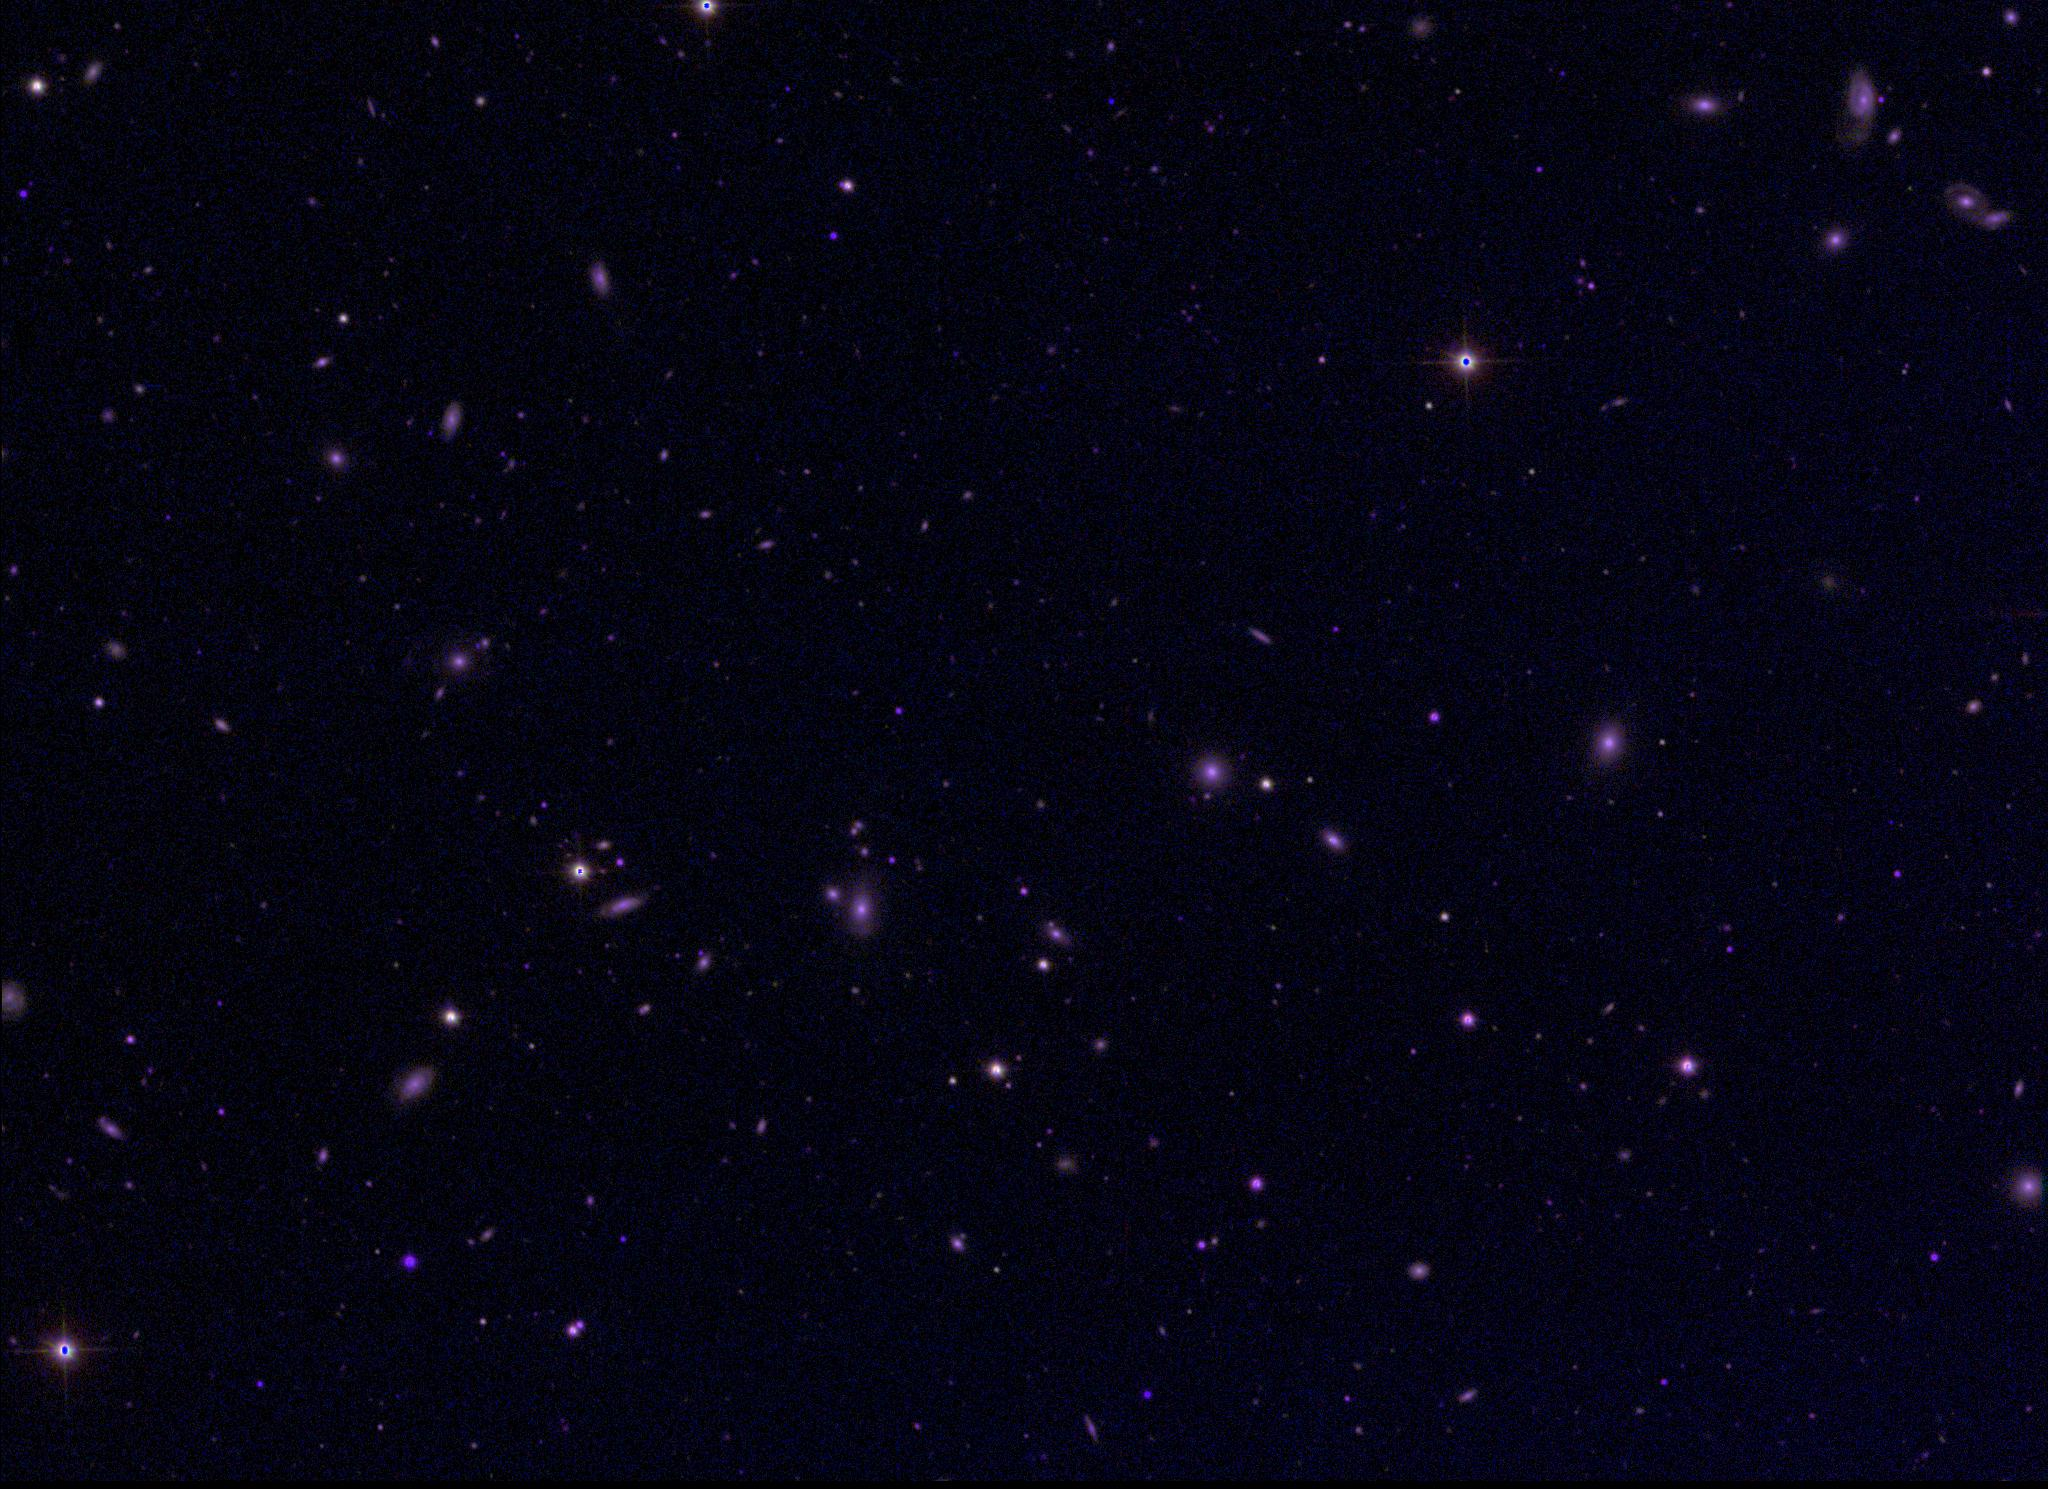L: (1104, 99, 1116, 111)
